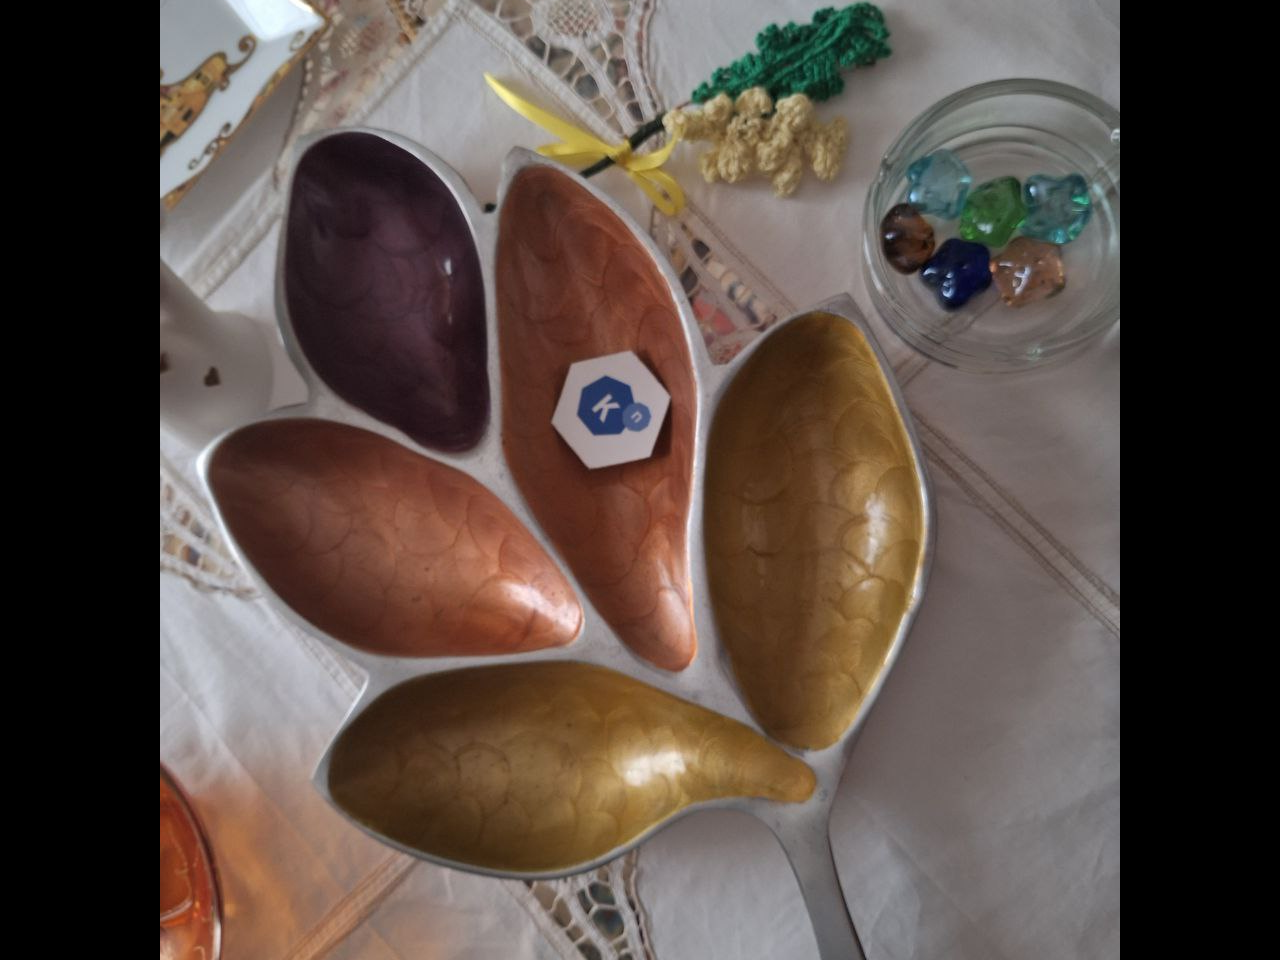knative: (577, 375, 653, 438)
